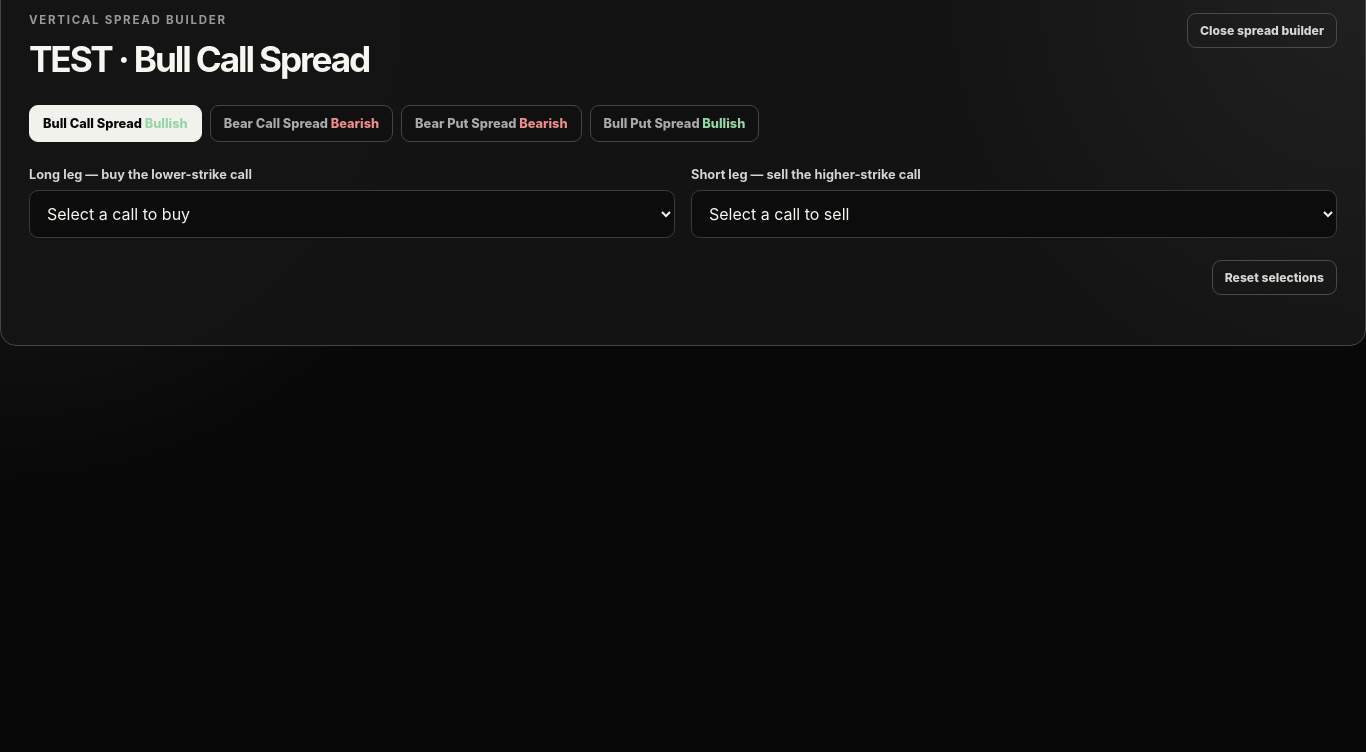
Test: VerticalSpreadBuilder › shows the engine's caution when quotes produce an inverted net debit
Select "$100.00 · ask $1.20" in the dropdown labelled "Long leg — buy the lower-strike call" at x=352, y=214, box [29,190,675,238]
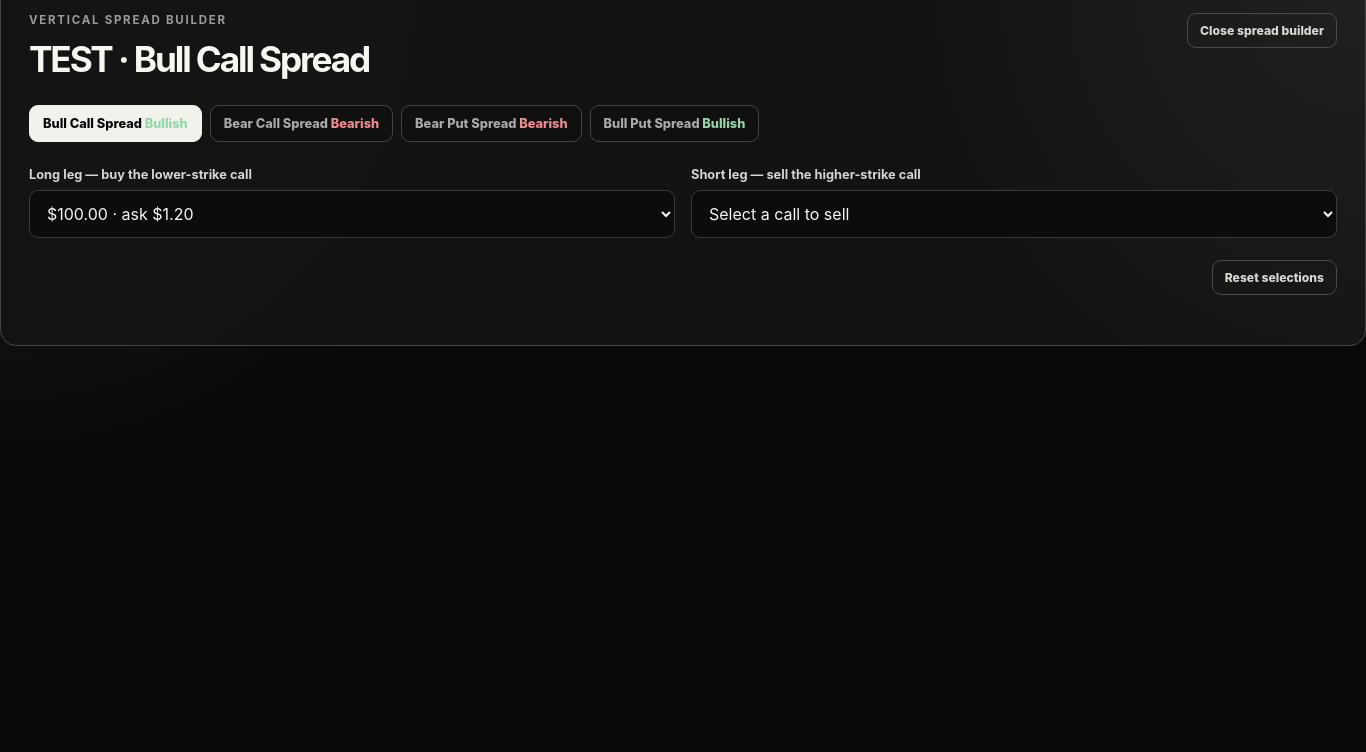
Select "$105.00 · bid $1.40" in the dropdown labelled "Short leg — sell the higher-strike call" at x=1014, y=214, box [691,190,1337,238]
(page scrolled)
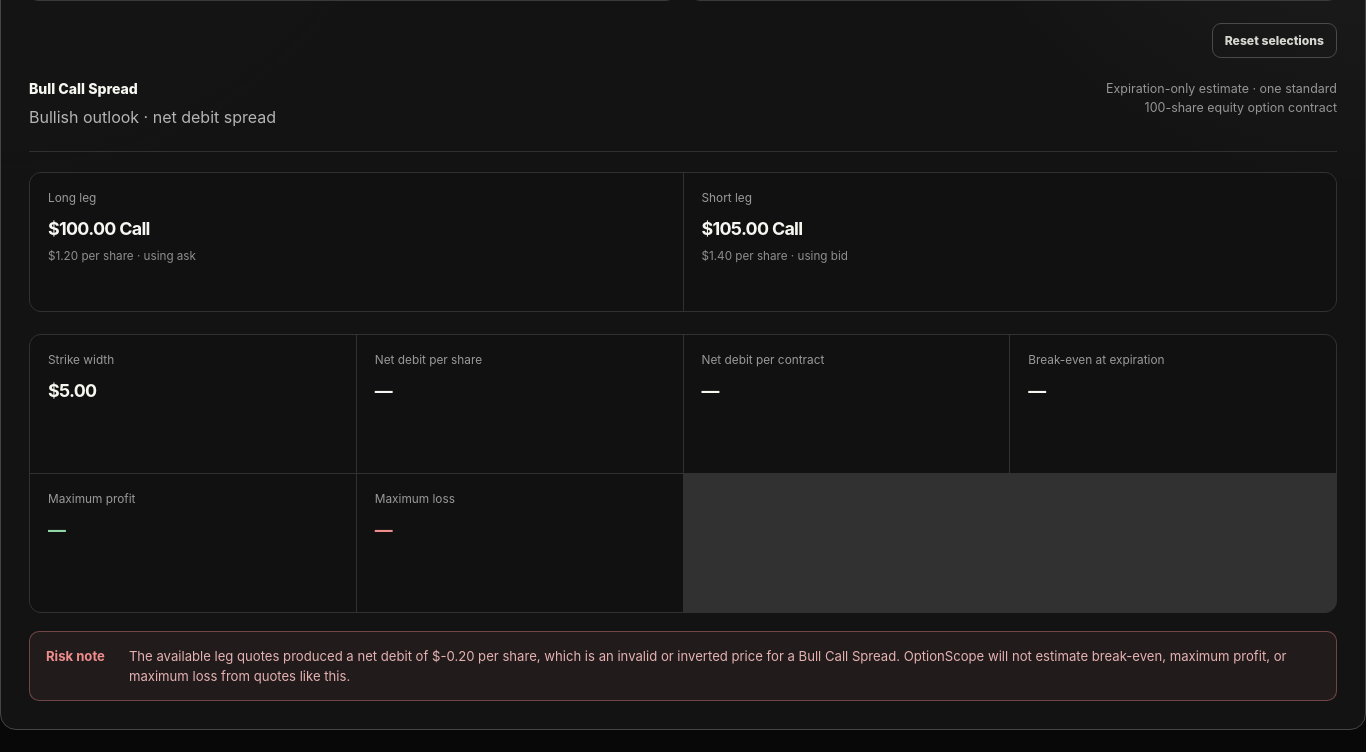
Expected: the text "invalid or inverted" is shown, [129,648,1286,684]
Expected: the 5th text "—" is shown, [375,519,392,540]
